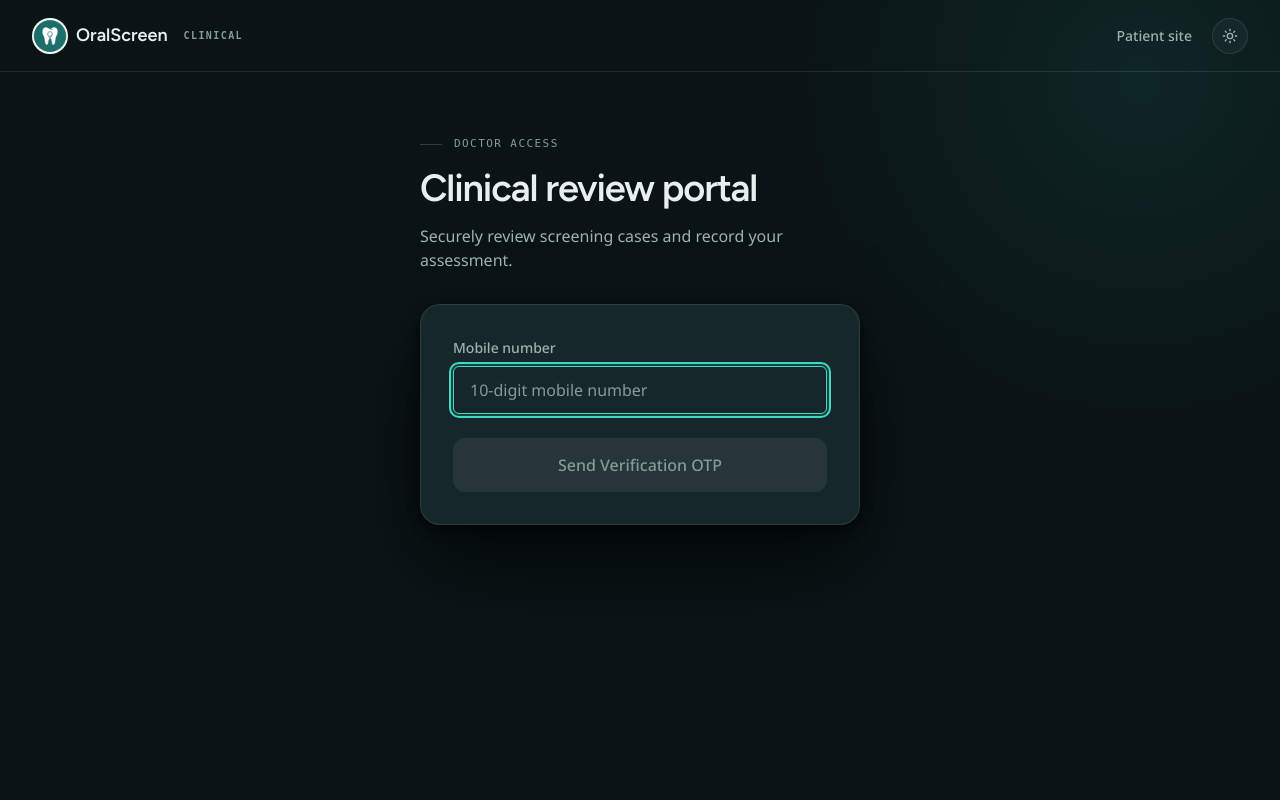
Scenario: the phone step › sends with the shared warmed verifier rather than passing a freshly built one
The image size is (1280, 800).
Step 1. Type "9876543210" into the field labelled "Mobile number" → (640, 390), box [453,366,827,414]
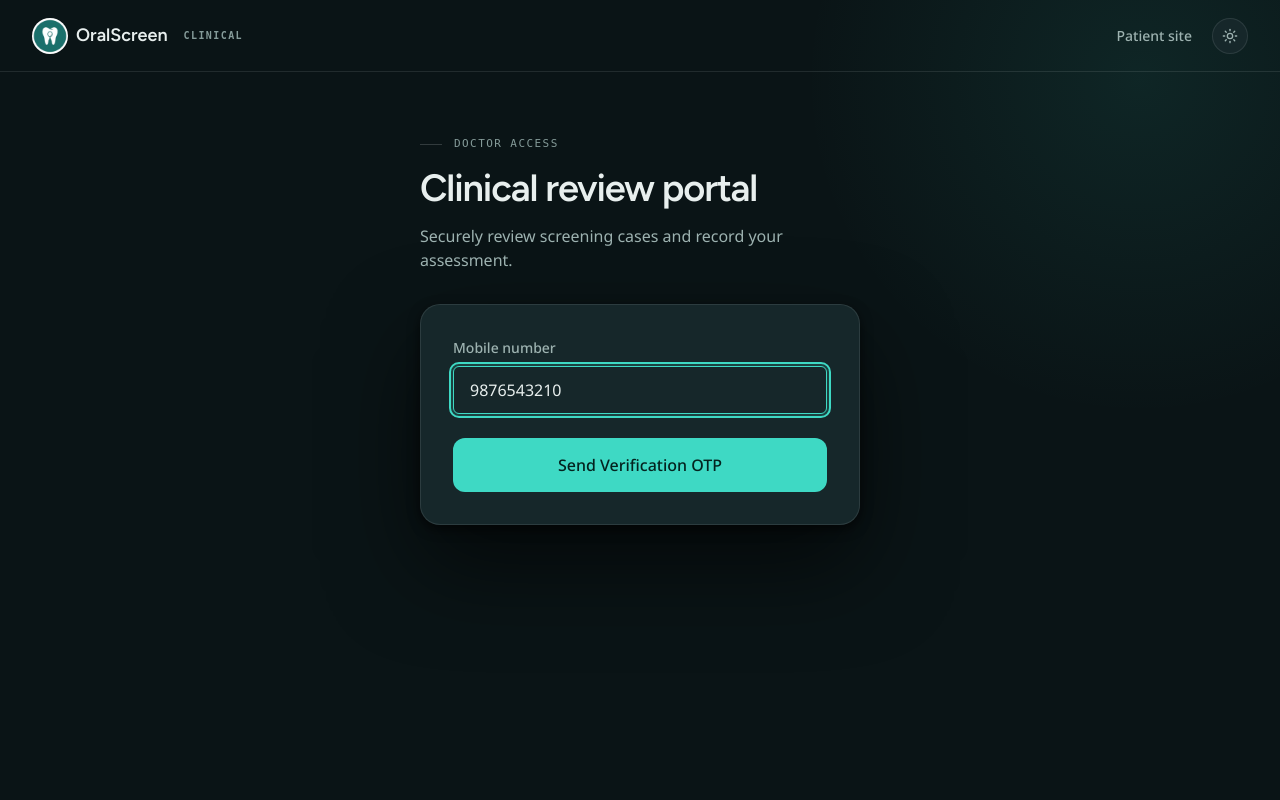
Step 2. Click the button "Send Verification OTP" → (640, 465), box [453,438,827,492]
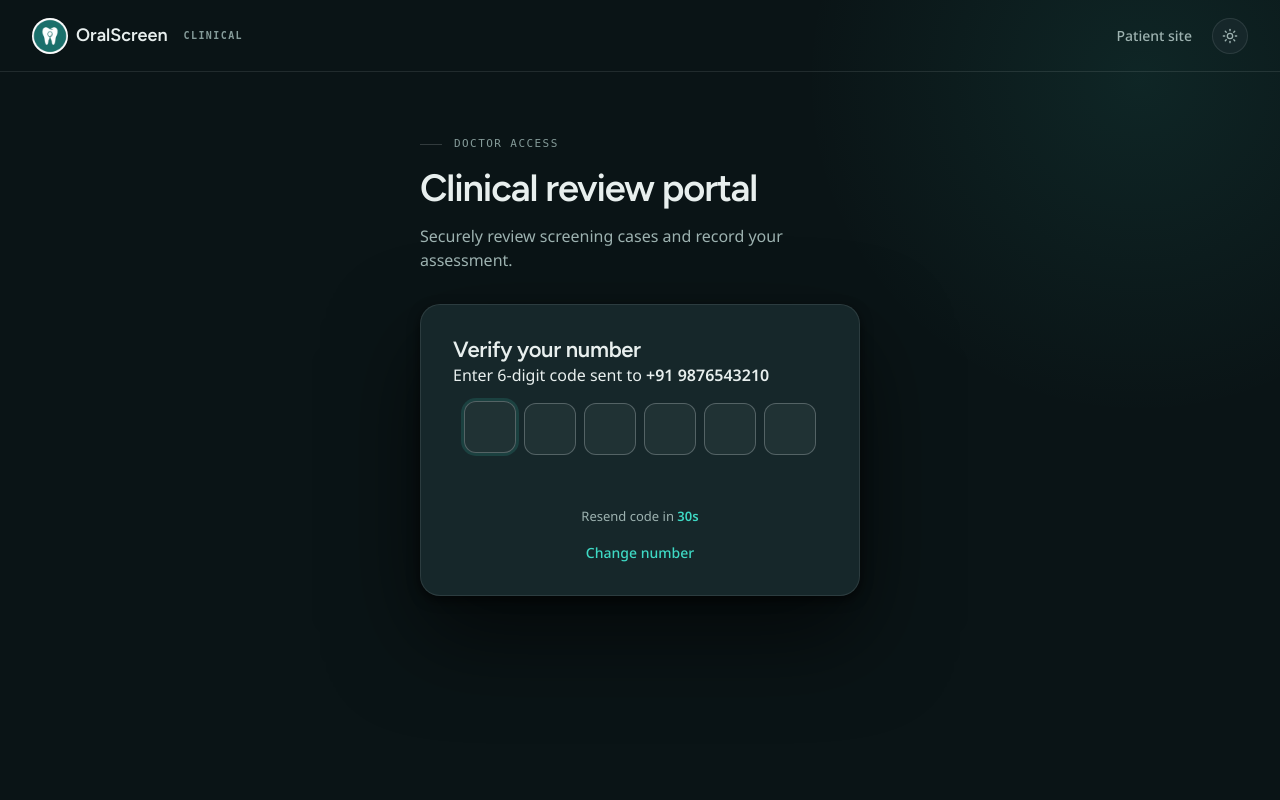
Now the heading "Verify your number" is shown, box [453,336,641,363]
Now the field named "Digit 1 of 6" is enabled, box [464,401,516,453]
Now the text "+91 9876543210" is shown, box [646,364,769,386]
